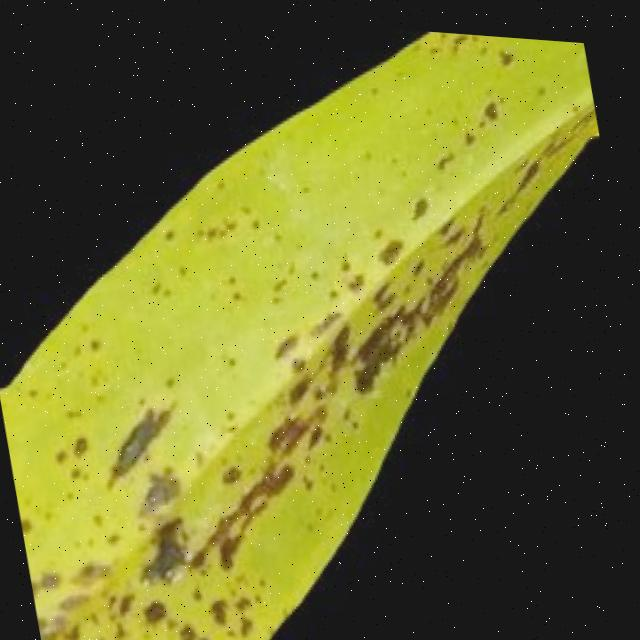mite: (5, 390, 234, 640), (140, 592, 172, 625), (407, 187, 430, 214), (70, 431, 93, 456), (478, 90, 501, 112), (493, 36, 514, 58)
spots: (0, 17, 635, 640)
